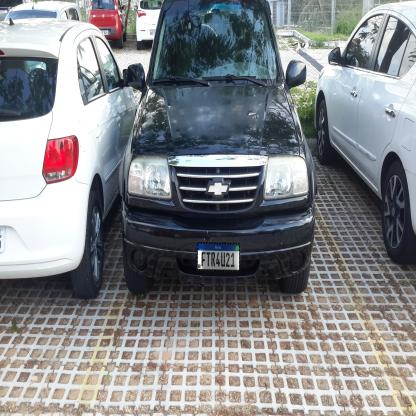PlacaM: (197, 242, 240, 272)
